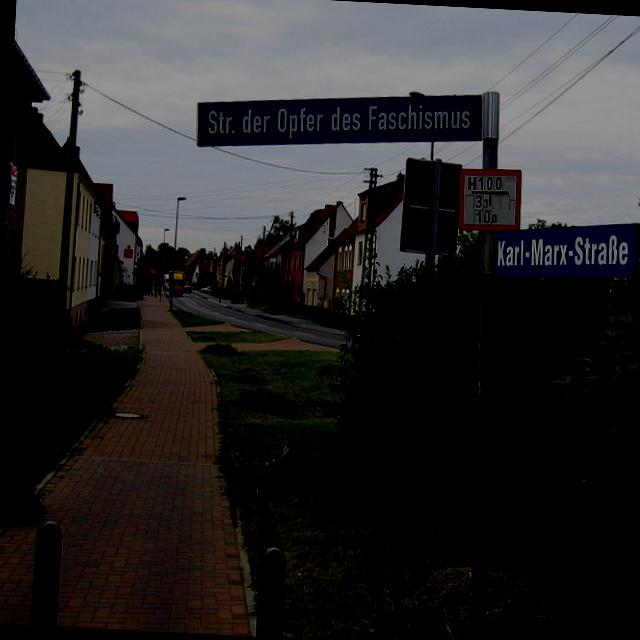Vehicle: (162, 270, 185, 297), (230, 288, 246, 304), (184, 282, 192, 294), (200, 286, 212, 294)
